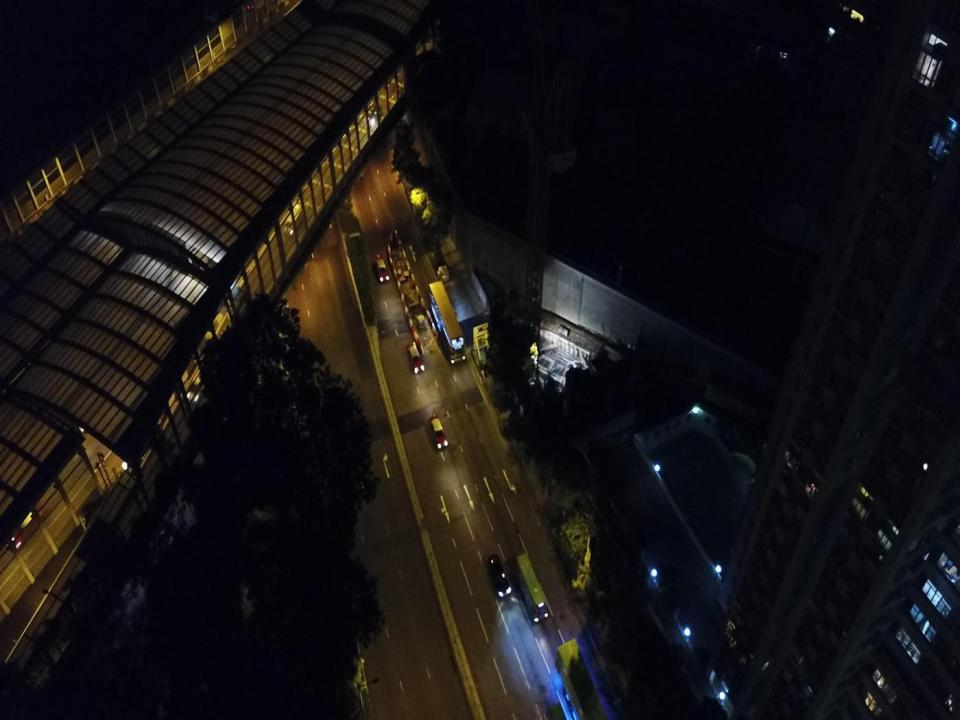bus: (428, 280, 466, 364), (513, 552, 549, 623)
car: (5, 494, 48, 555), (485, 552, 513, 596), (405, 340, 426, 374), (428, 415, 448, 450), (372, 250, 390, 282)
truck: (555, 639, 611, 719)
